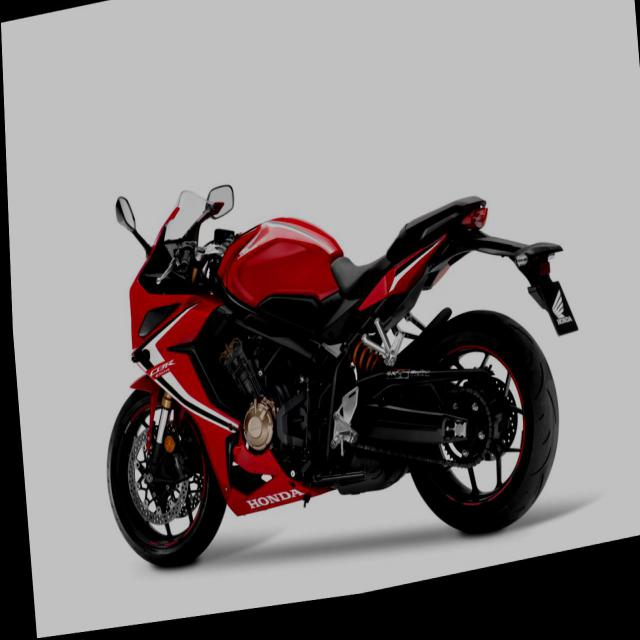CBR650R: (82, 116, 590, 617)
